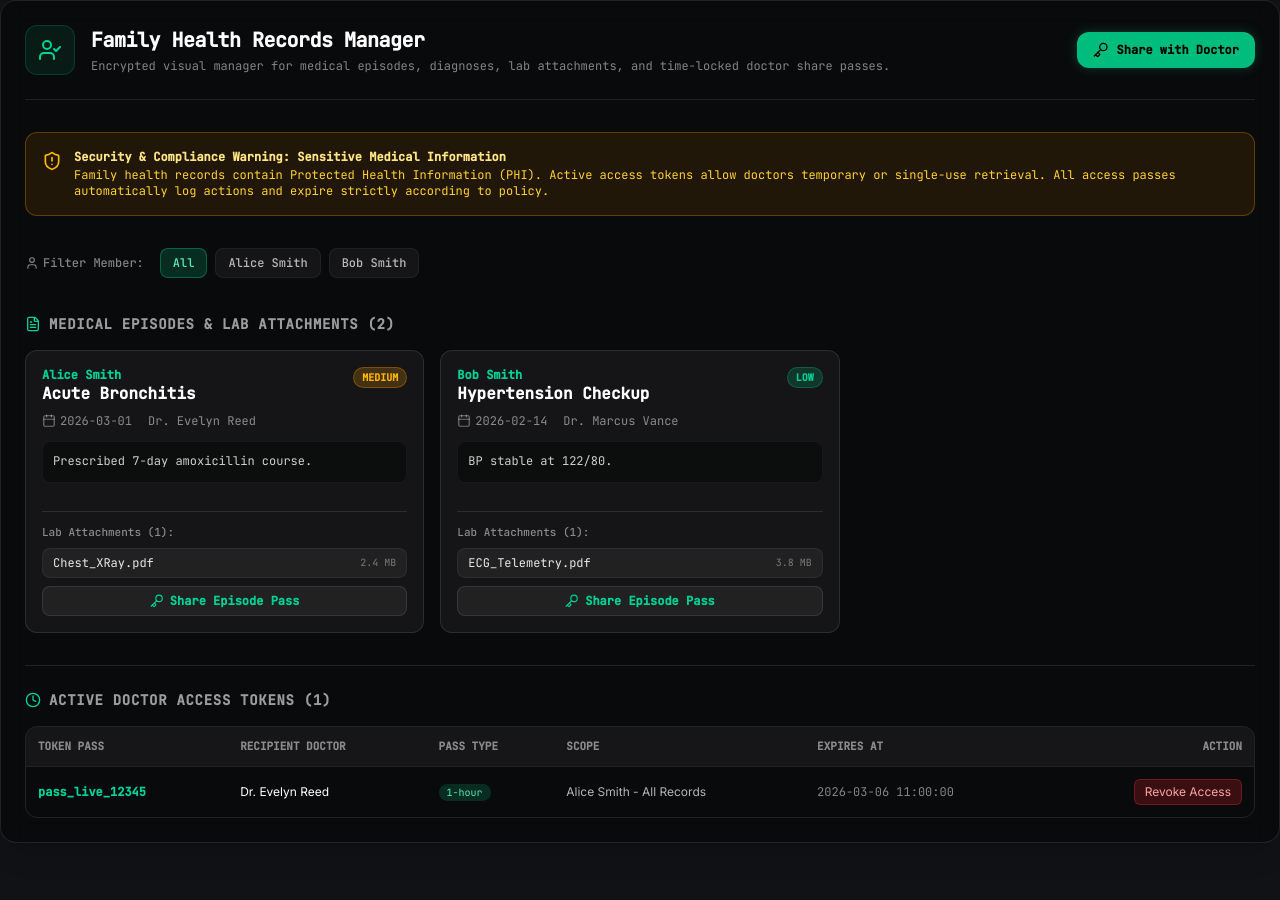
Test: FamilyHealthRecords Component › filters medical records by family member
The width and height of the screenshot is (1280, 900).
Note: Click on 'Alice Smith' filter tab
Step 1. Click the button "Alice Smith" → (268, 263), box [215, 248, 321, 278]
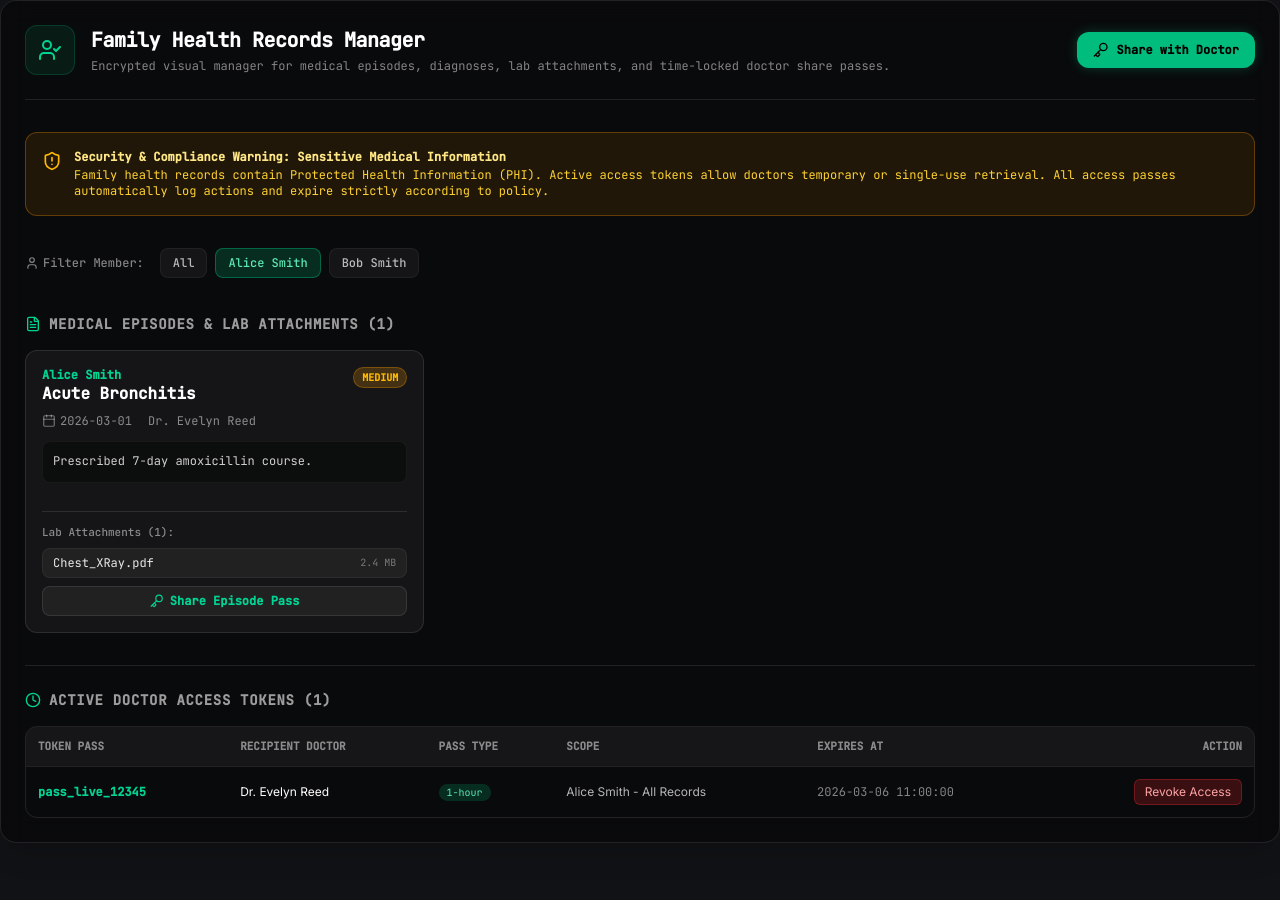
Expected: the heading "Acute Bronchitis" is shown, [42, 383, 196, 405]
Result: the heading "Hypertension Checkup" is gone
Note: Reset filter to 'All'
Step 2. Click the button "All" → (184, 263), box [160, 248, 207, 278]
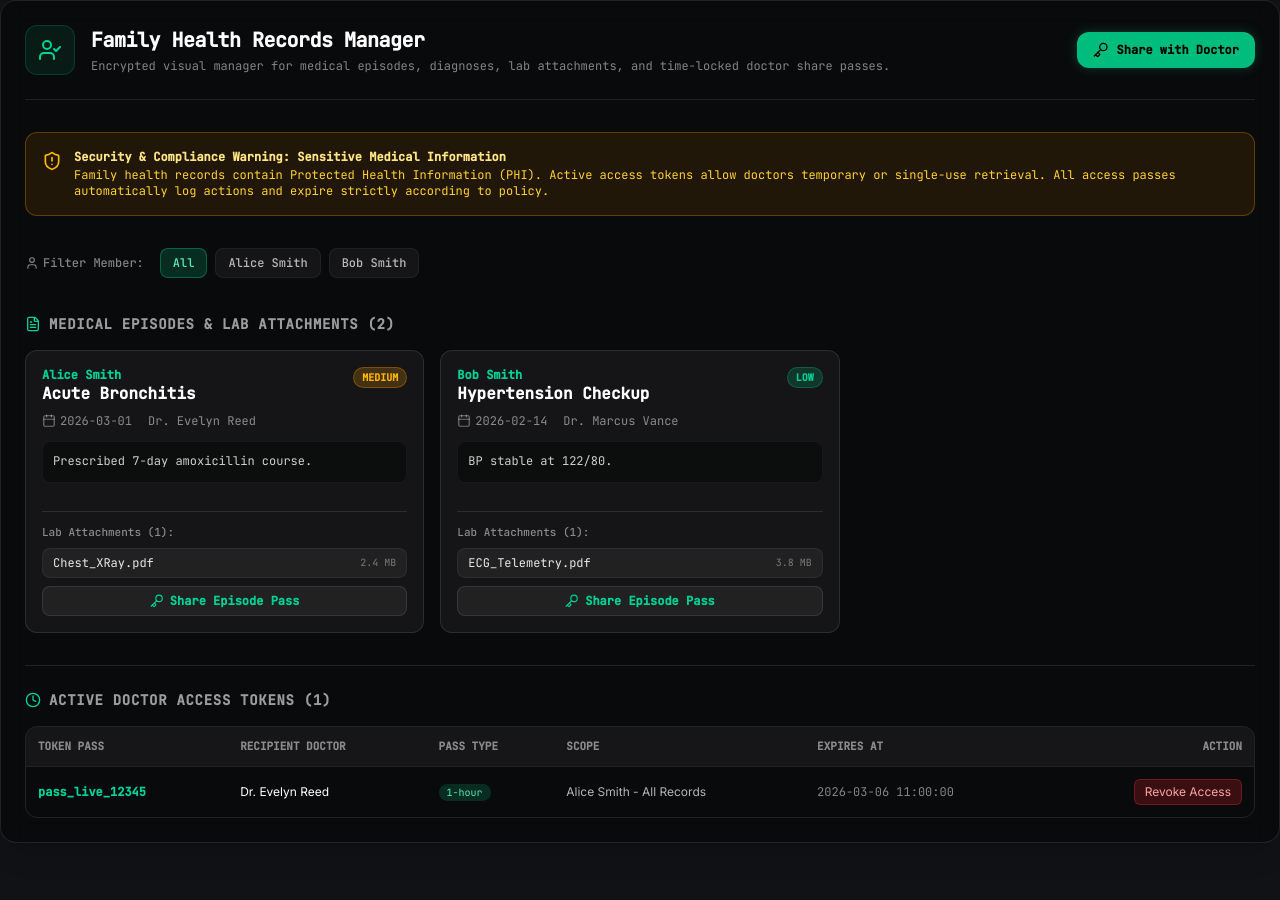
Expected: the heading "Acute Bronchitis" is shown, [42, 383, 196, 405]
Result: the heading "Hypertension Checkup" is shown at [457, 383, 649, 405]
